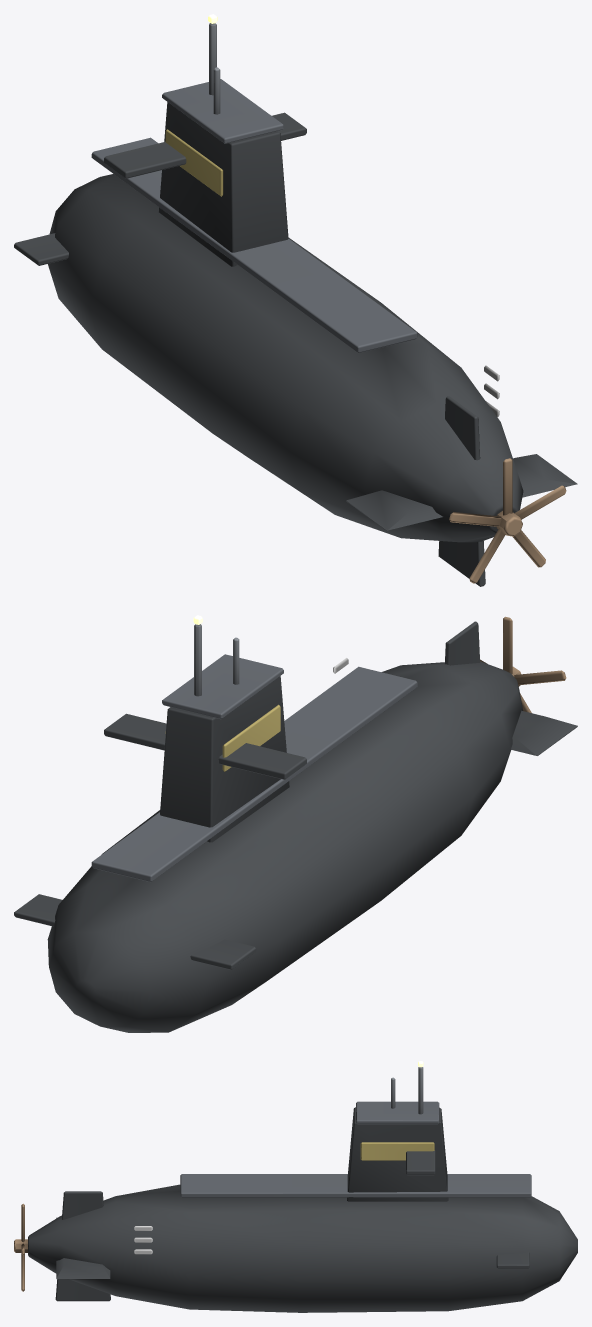
Rendered from submarine.glb.
3 renders of one model, top to bottom at view 1: azimuth 30°, elevation 25°; view 2: azimuth 150°, elevation 25°; view 3: azimuth 270°, elevation 25°, orthographic. The views are drawn at different scales.
Parts seen in each view (by area): view 1: Body, Propeller; view 2: Body, Propeller; view 3: Body, Propeller.
Boxes of the visible parts, box(x1,y1,x2,y2) form: Body: box(14, 14, 577, 586); Propeller: box(449, 458, 566, 583); Body: box(14, 615, 577, 1032); Propeller: box(480, 616, 566, 712); Body: box(28, 1061, 577, 1312); Propeller: box(14, 1203, 27, 1291).
Size of the model in its own units: 1.8 by 2.93 by 6.1.
